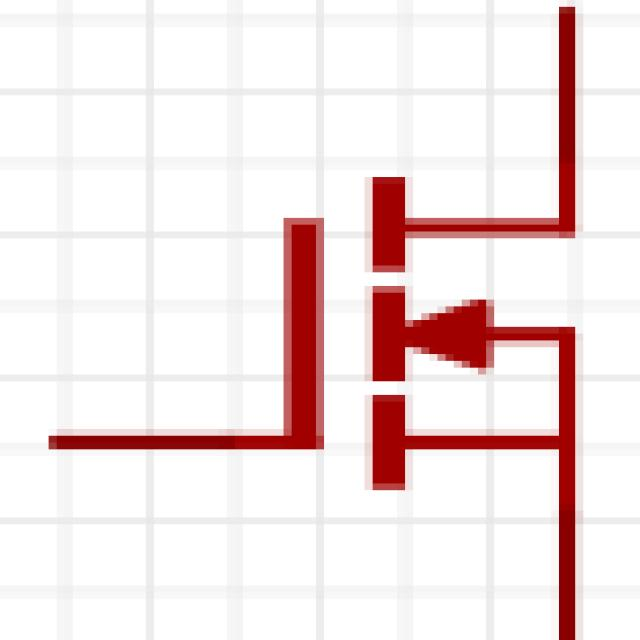pmos: (26, 16, 640, 640)
